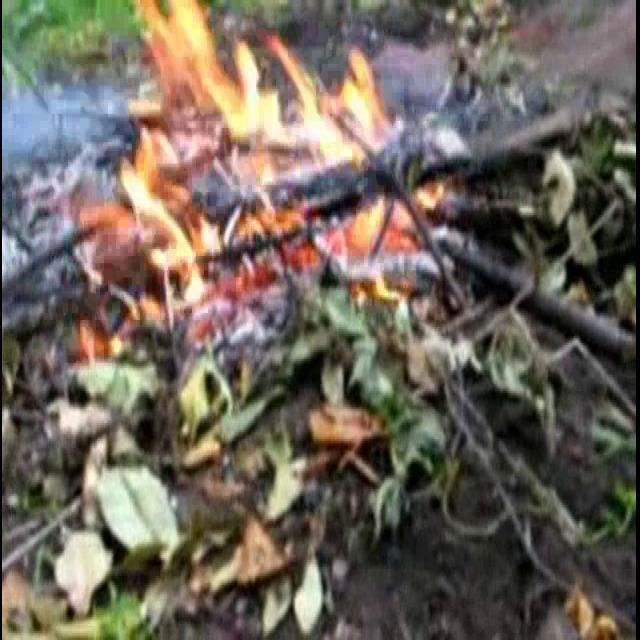Fire: (72, 0, 452, 380)
Smoke: (377, 21, 551, 161), (3, 51, 131, 204)
